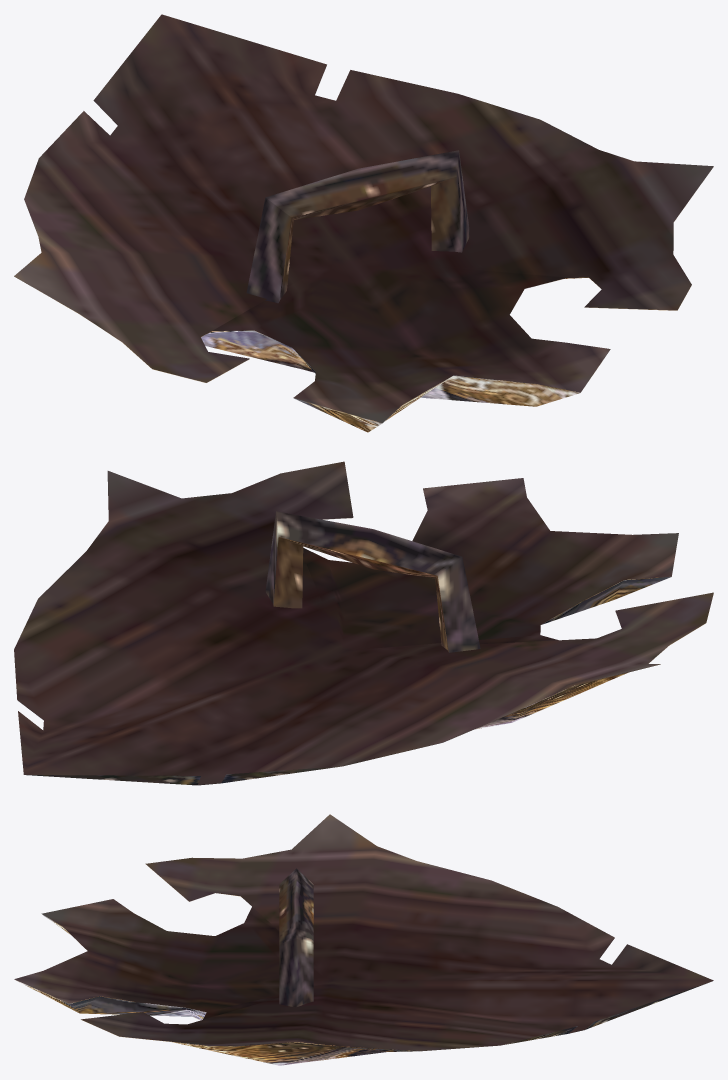
3 views of the same model, one above another, from view 1: azimuth 30°, elevation 25°; view 2: azimuth 150°, elevation 25°; view 3: azimuth 270°, elevation 25° (orthographic). The views are drawn at different scales.
Visible parts, largest first — view 1: i100010; view 2: i100010; view 3: i100010.
Boxes of the visible parts, x1,y1,x2,y2 form: i100010: (14,14,713,432); i100010: (14,461,713,785); i100010: (14,814,713,1065).
Bounding box in the file's own units: 62.07 × 18.11 × 79.11.
1 material, 1 textured.
